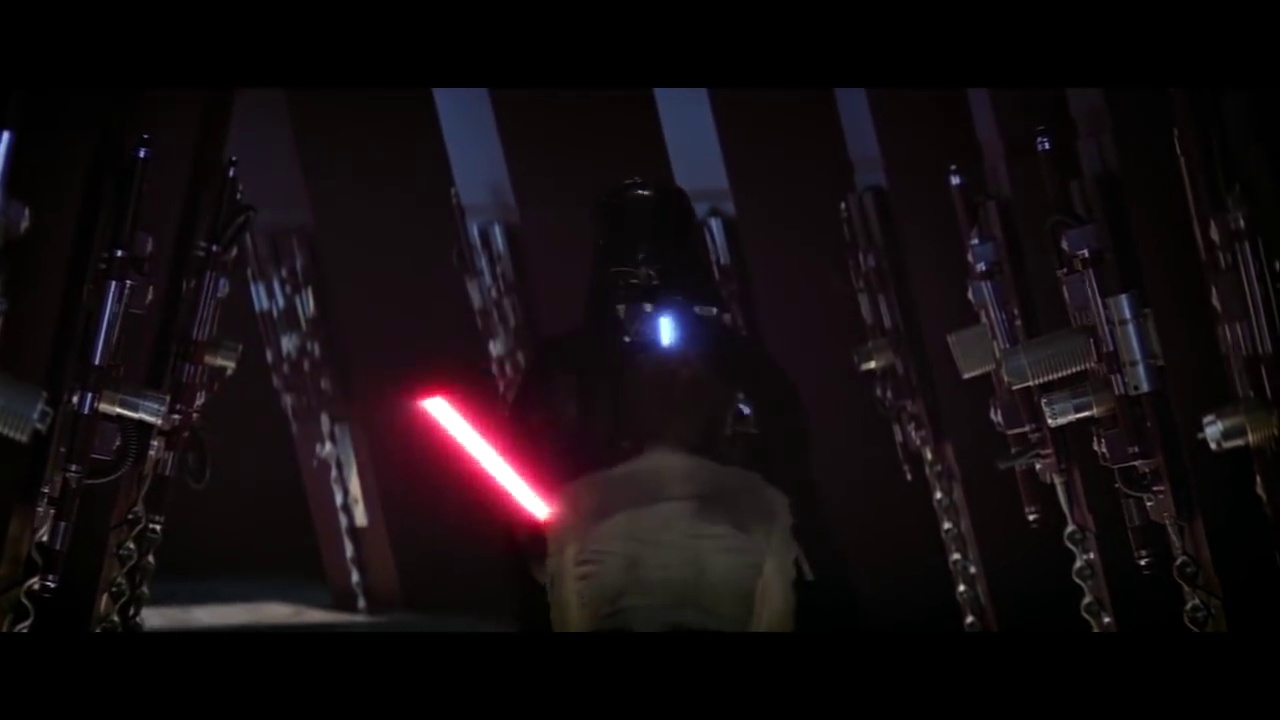lightsaber: (406, 385, 570, 538)
